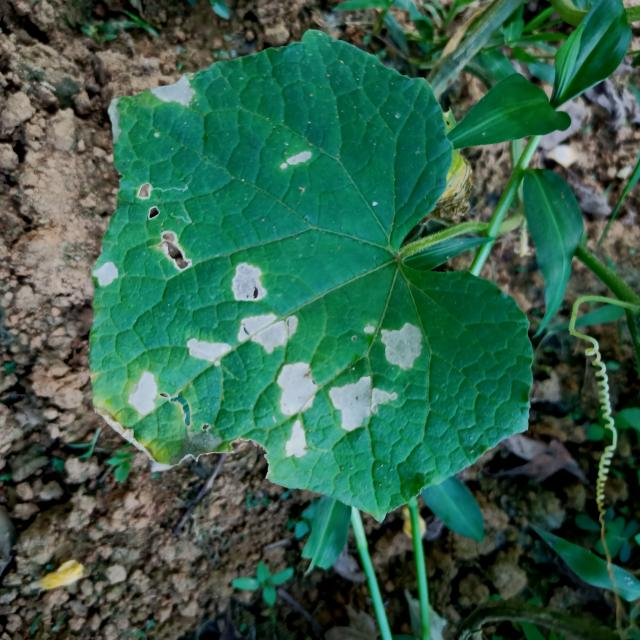disease_cucumber: (231, 258, 300, 353), (132, 181, 192, 273), (275, 359, 320, 458), (326, 371, 398, 431), (360, 316, 432, 371), (128, 367, 164, 418), (184, 335, 233, 369), (152, 76, 198, 108), (92, 261, 123, 288), (278, 148, 309, 172)
